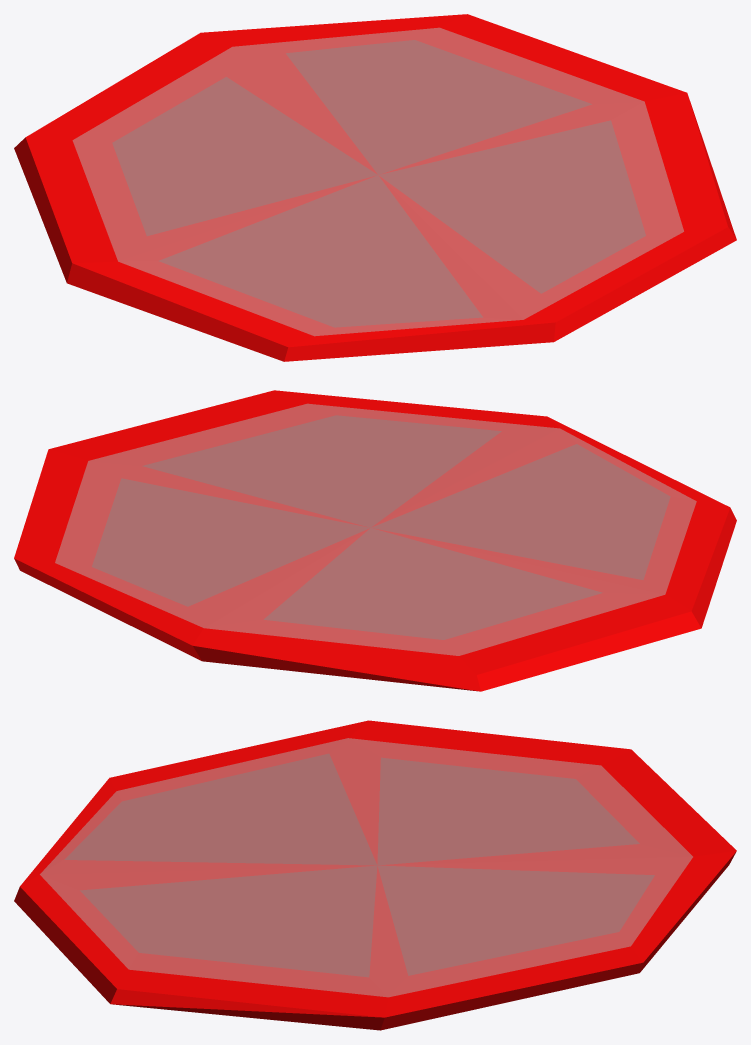
Rendered from Tomato Slice.fbx.
3 views of the same model, one above another, from view 1: azimuth 30°, elevation 25°; view 2: azimuth 150°, elevation 25°; view 3: azimuth 270°, elevation 25° (orthographic). The views are drawn at different scales.
Visible parts, largest first — view 1: Tomato Slice; view 2: Tomato Slice; view 3: Tomato Slice.
Boxes of the visible parts, bbox=[...] form: Tomato Slice: bbox=[14, 14, 736, 361]; Tomato Slice: bbox=[14, 390, 736, 691]; Tomato Slice: bbox=[14, 720, 736, 1030].
Size of the model in its own units: 7.52 by 0.5681 by 7.32.
